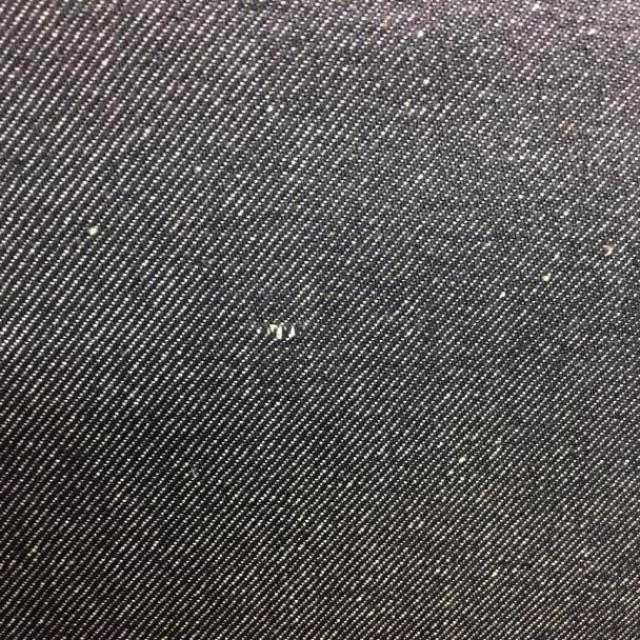Knot: (265, 324, 296, 342)
